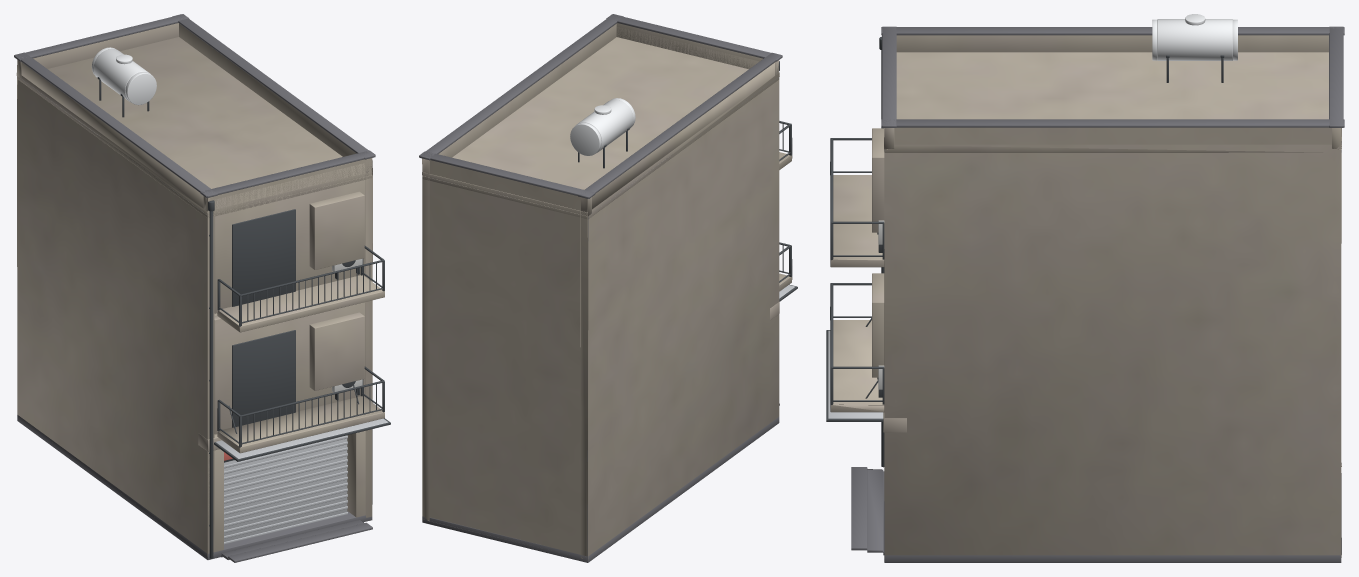
File: House_Modular_01.fbx
3 renders of one model, left to right at view 1: azimuth 30°, elevation 25°; view 2: azimuth 150°, elevation 25°; view 3: azimuth 270°, elevation 25°, orthographic. The views are drawn at different scales.
Visible parts, largest first — view 1: House_Modular_01; view 2: House_Modular_01; view 3: House_Modular_01.
Part boxes in pixels (x1,y1,x2,y2): House_Modular_01: (14,14,390,562); House_Modular_01: (419,14,797,562); House_Modular_01: (826,14,1344,562).
Bounding box in the file's own units: 5.14 × 11.48 × 11.34.
Materials: 8 (1 with a texture image).
